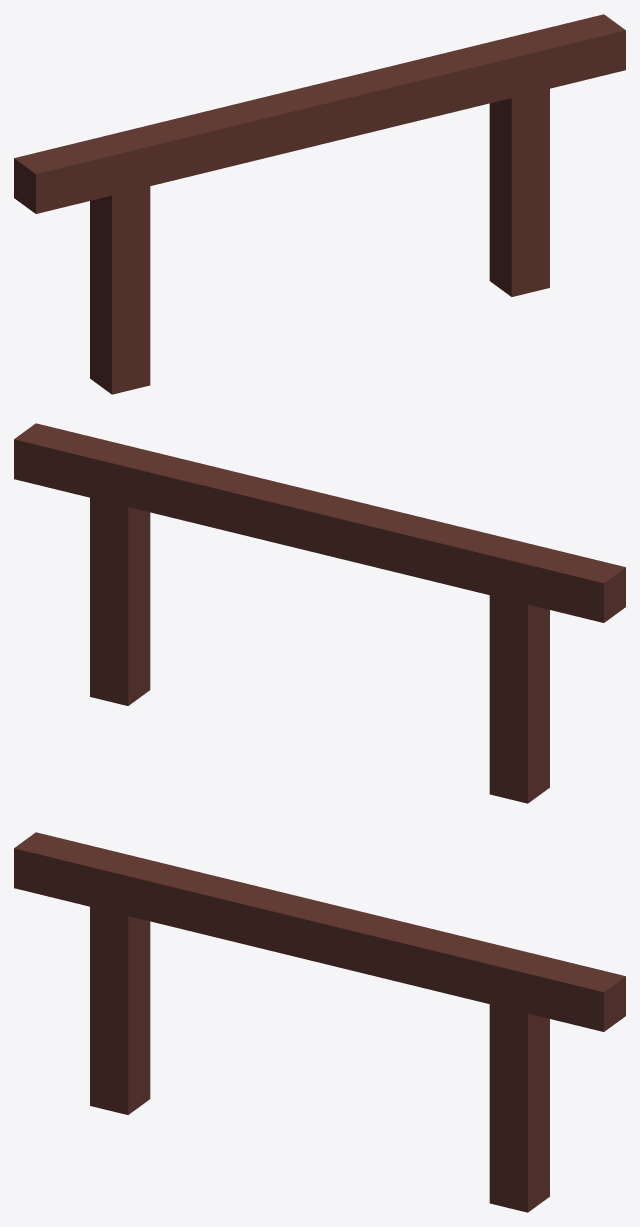
File: horse_stand.obj
The picture shows the model from 3 angles, top to bottom: view 1: azimuth 30°, elevation 25°; view 2: azimuth 150°, elevation 25°; view 3: azimuth 330°, elevation 25°; orthographic projection.
Bounding box in the file's own units: 3.1 × 1.2 × 0.2.
1 material, 1 textured.
